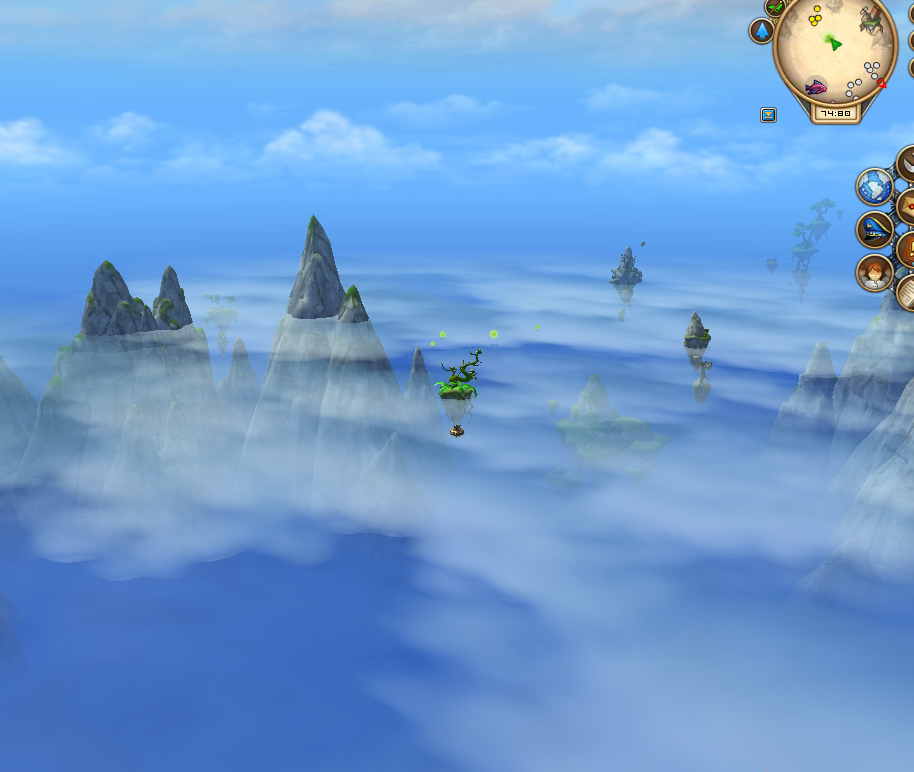dandelion-empty: (430, 348, 485, 414)
fluff: (487, 327, 500, 341), (533, 322, 542, 331), (428, 338, 437, 347), (437, 330, 446, 338)
